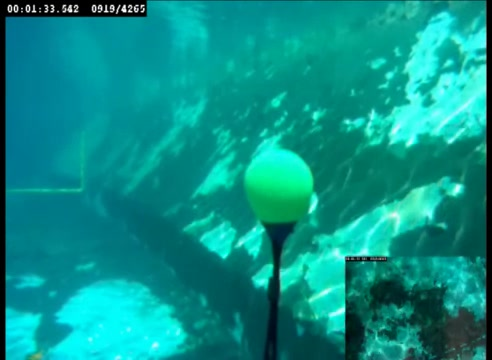buoy_green: (244, 148, 312, 244)
